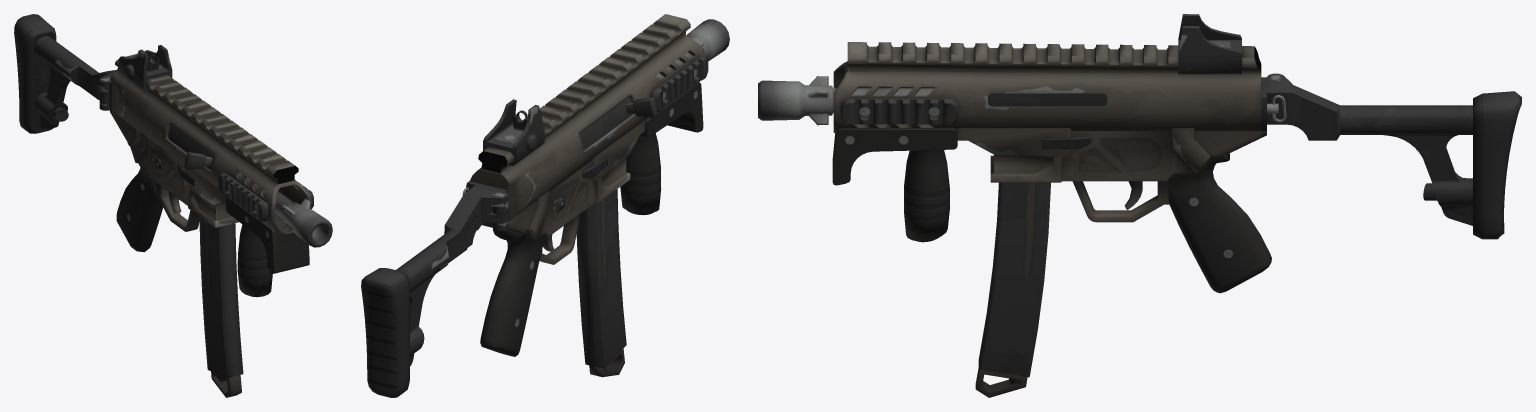
The model's file is SMG.gltf.
The picture shows the model from 3 angles, left to right: view 1: azimuth 30°, elevation 25°; view 2: azimuth 150°, elevation 25°; view 3: azimuth 270°, elevation 25°; orthographic projection. The views are drawn at different scales.
Visible parts, largest first — view 1: Core_SMG_Rifle_LOD0; view 2: Core_SMG_Rifle_LOD0; view 3: Core_SMG_Rifle_LOD0.
Boxes of the visible parts, x1,y1,x2,y2 form: Core_SMG_Rifle_LOD0: [14, 14, 332, 397]; Core_SMG_Rifle_LOD0: [361, 14, 729, 397]; Core_SMG_Rifle_LOD0: [758, 14, 1521, 397].
Bounding box in the file's own units: 0.0827 × 0.3356 × 0.6218.
Materials: 1 (1 with a texture image).
